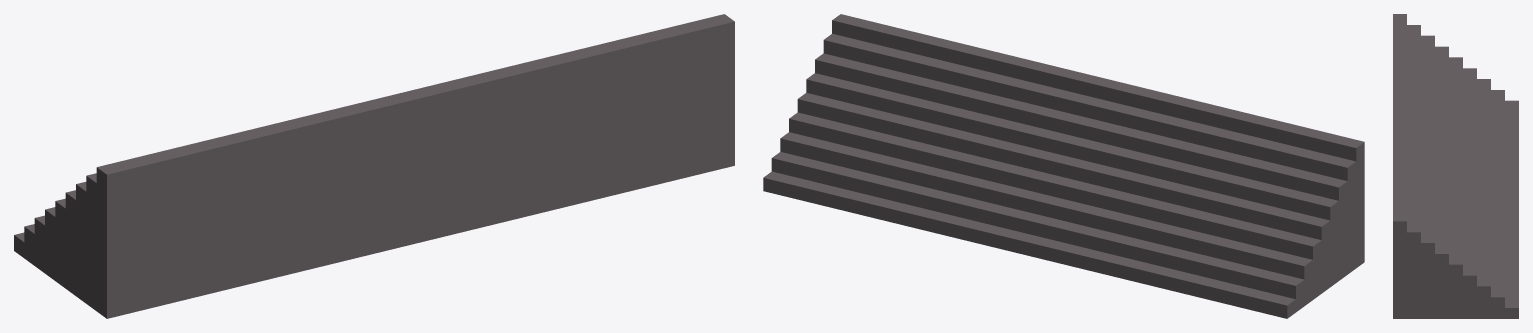
Rendered from BDoor_Stairs.fbx.
3 renders of one model, left to right at view 1: azimuth 30°, elevation 25°; view 2: azimuth 150°, elevation 25°; view 3: azimuth 270°, elevation 25°, orthographic. The views are drawn at different scales.
Parts seen in each view (by area): view 1: Cube.011; view 2: Cube.011; view 3: Cube.011.
Boxes of the visible parts, x1,y1,x2,y2 form: Cube.011: (14, 14, 734, 318); Cube.011: (763, 14, 1364, 318); Cube.011: (1393, 14, 1518, 318).
Bounding box in the file's own units: 1042 × 229 × 267.
